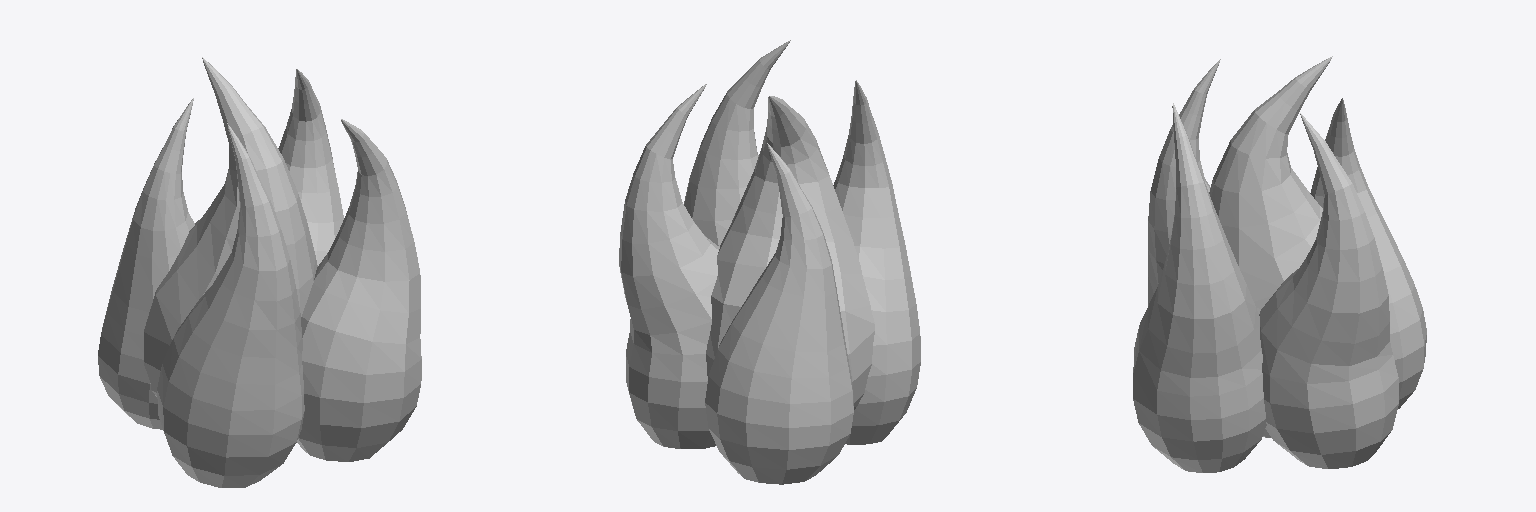
File: fire_000044.obj
3 renders of one model, left to right at view 1: azimuth 30°, elevation 25°; view 2: azimuth 150°, elevation 25°; view 3: azimuth 270°, elevation 25°, orthographic.
Parts seen in each view (by area): view 1: flame_NurbsPath.015; view 2: flame_NurbsPath.015; view 3: flame_NurbsPath.015.
Boxes of the visible parts, x1,y1,x2,y2 form: flame_NurbsPath.015: [98, 57, 421, 487]; flame_NurbsPath.015: [619, 40, 920, 484]; flame_NurbsPath.015: [1133, 56, 1426, 472].
Bounding box in the file's own units: 0.7506 × 1.13 × 0.807.